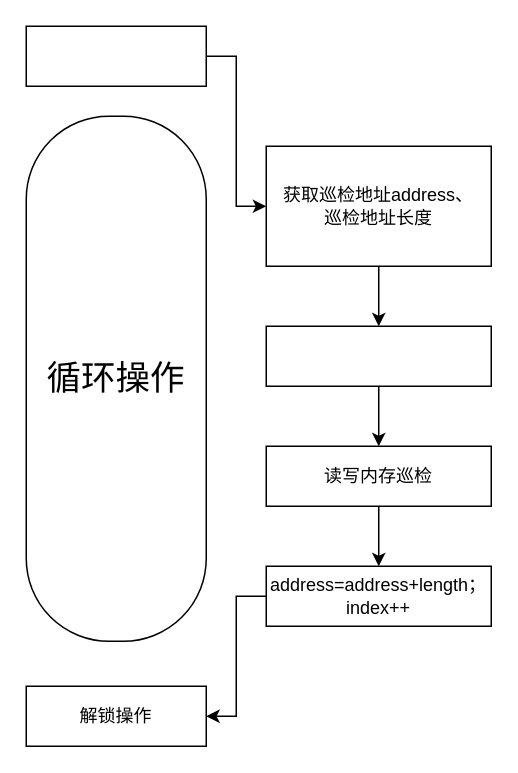
Some shapes in this 518 by 773 pixel diagram are drawn without their labels. The box of each missing label's shape, as (x1, y1, x2, y2) in pixels:
上锁操作: (25, 25, 206, 86)
巡检码 MP_ulPatrolCode[index]: (265, 325, 491, 386)
